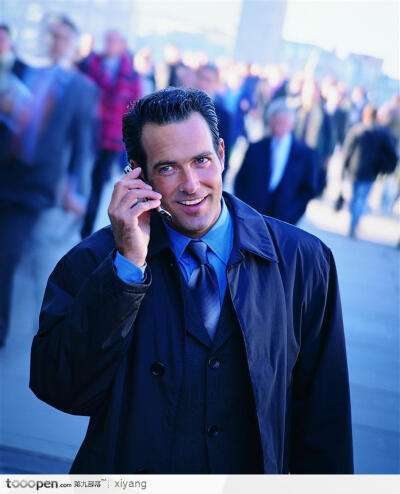calling: (105, 160, 163, 257)
